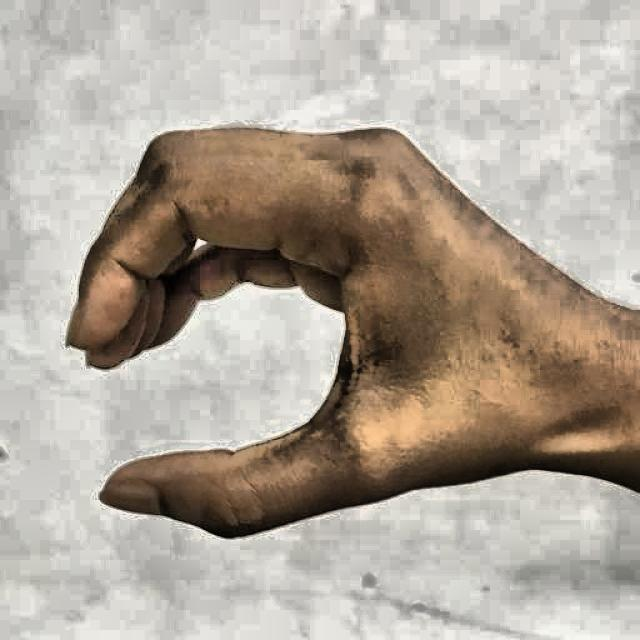Ka: (46, 92, 630, 555)
